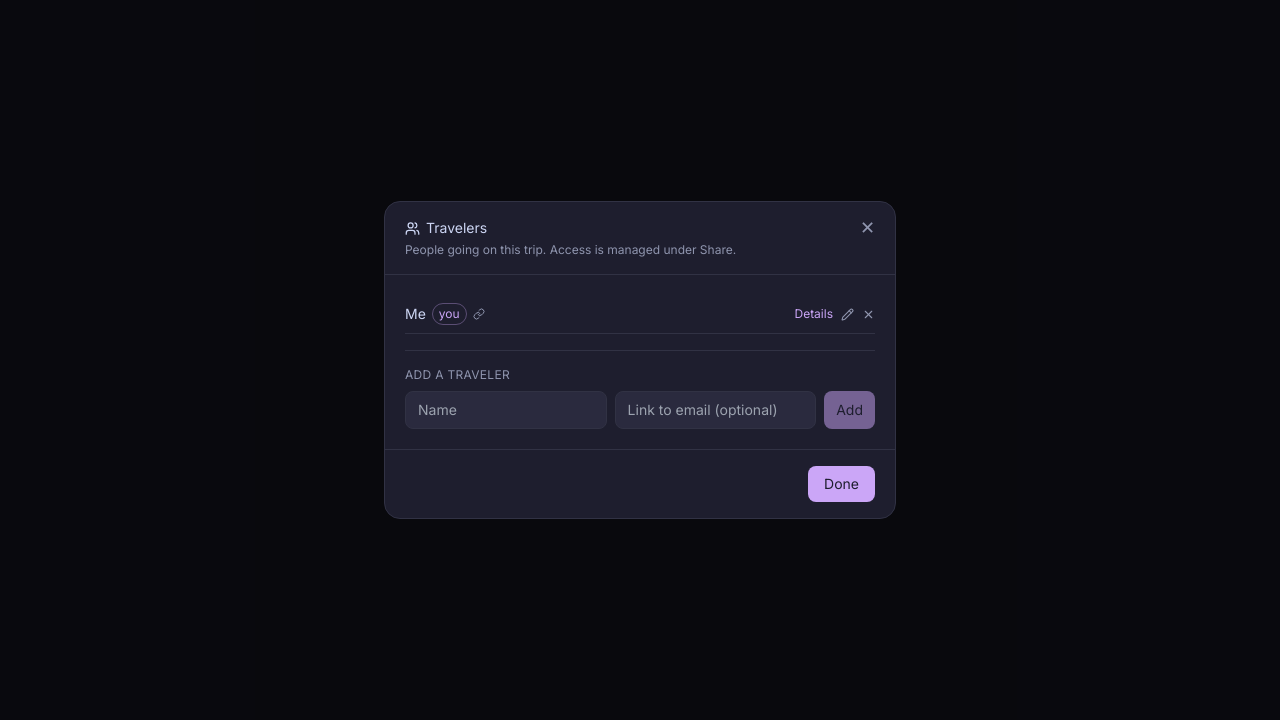
Scenario: TravelersModal — owner › "Fill from my vault" appears only on own row with a passport document, fills the form, and does not save
Check: the text "Me" is shown, box x1=405 y1=304 x2=426 y2=324
Click the button "Details" at (814,314), box x1=794 y1=306 x2=833 y2=322
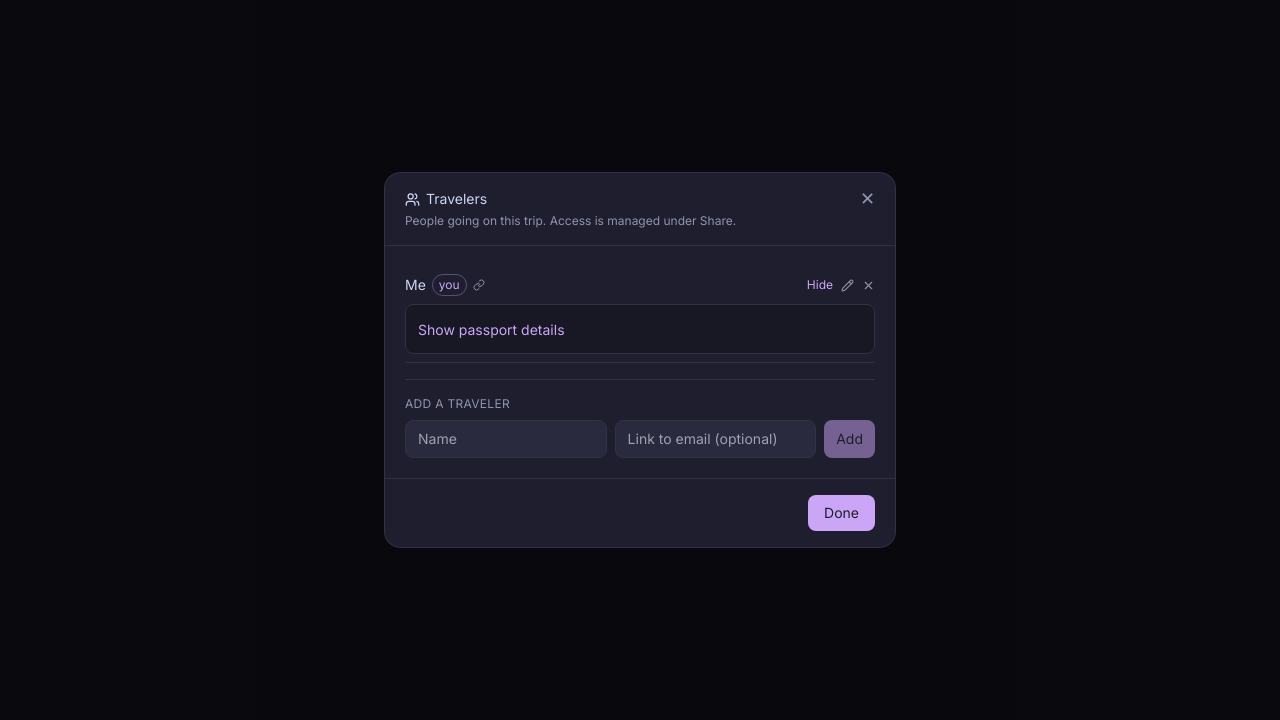
Click the button "Show passport details" at (491,330), box x1=418 y1=320 x2=564 y2=340
(page scrolled)
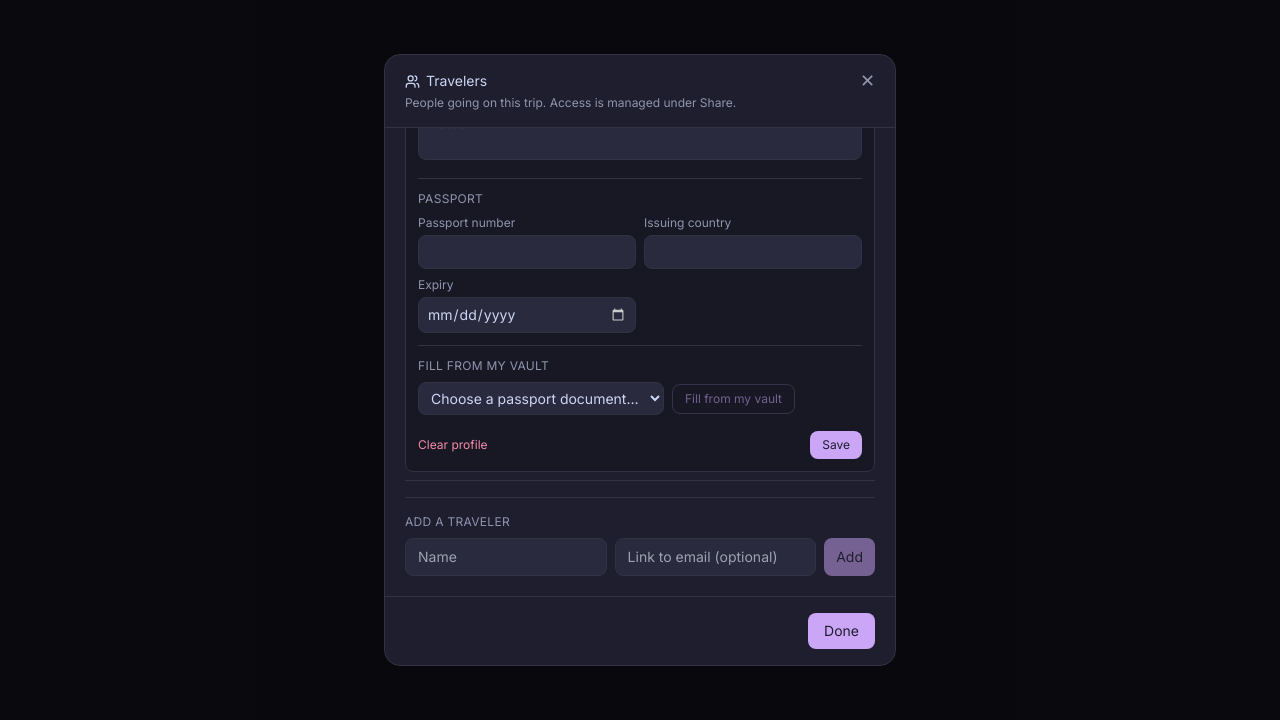
Check: the button "Fill from my vault" is shown, box x1=672 y1=384 x2=795 y2=414
Select "US Passport" in the dropdown showing "Choose a passport document…" at (541,398), box x1=418 y1=382 x2=664 y2=415
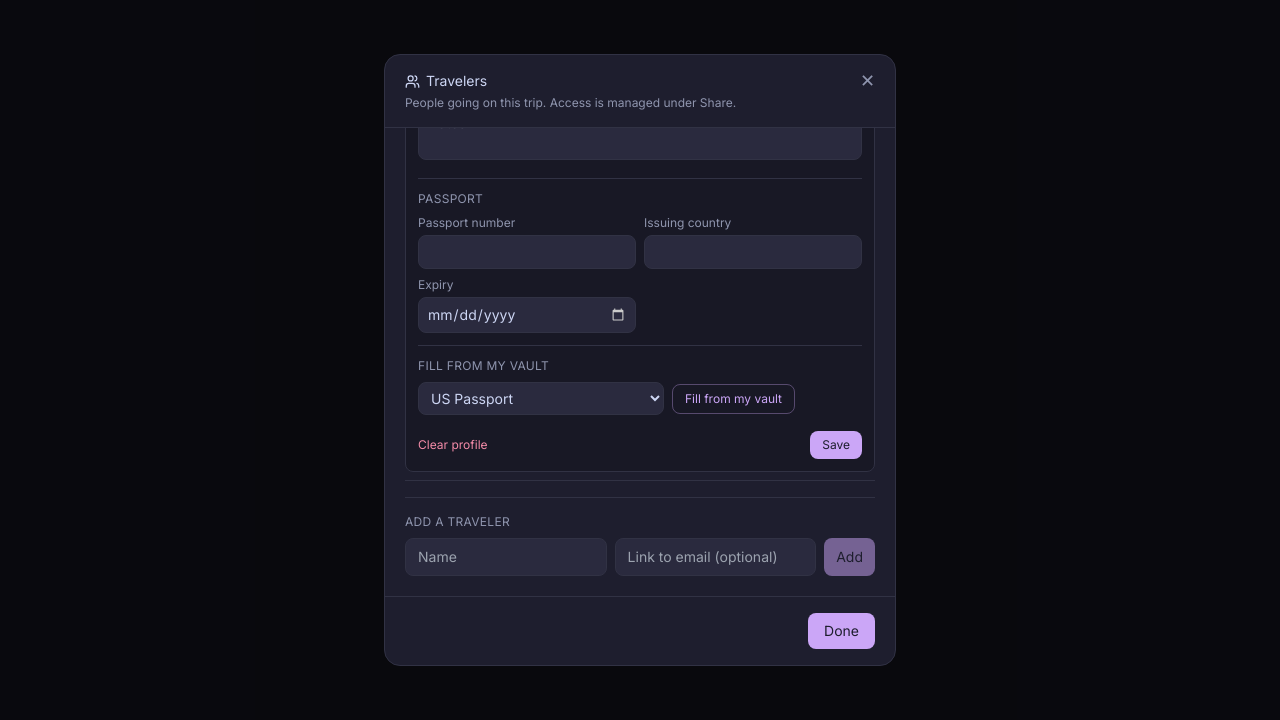
Click the button "Fill from my vault" at (734,398), box x1=672 y1=384 x2=795 y2=414
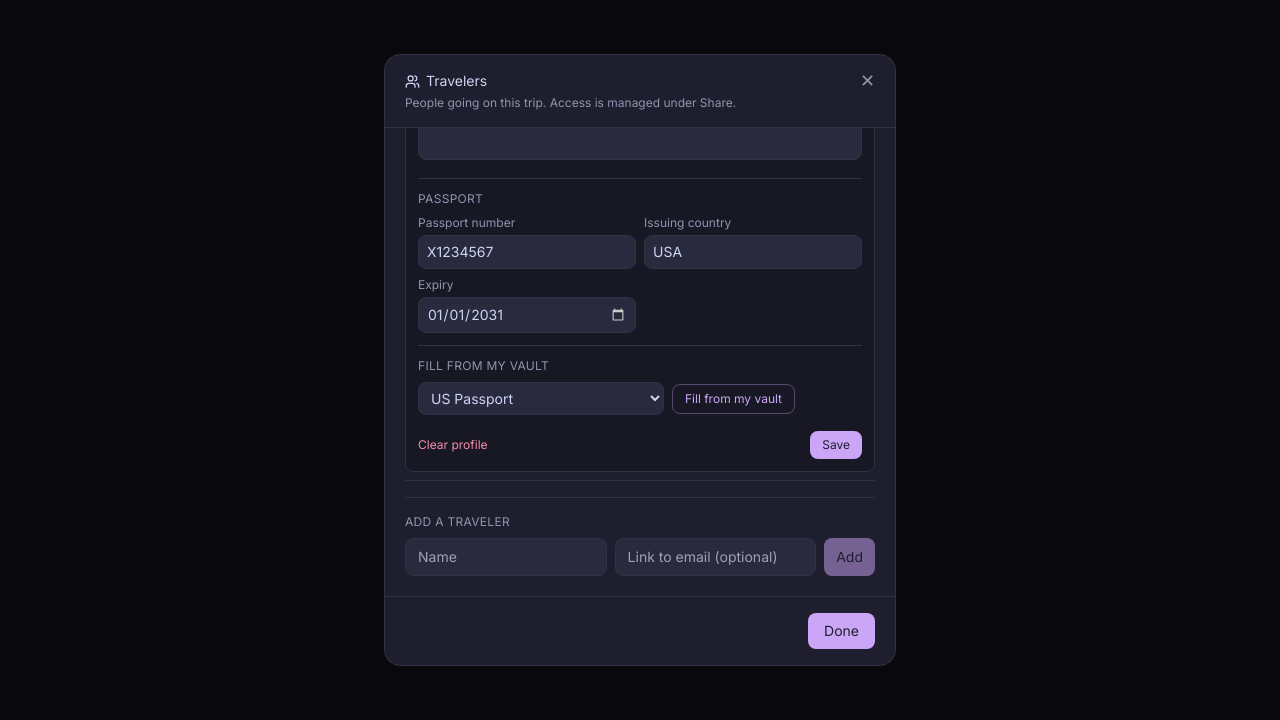
Check: the field showing "X1234567" is shown, box x1=418 y1=235 x2=636 y2=269
